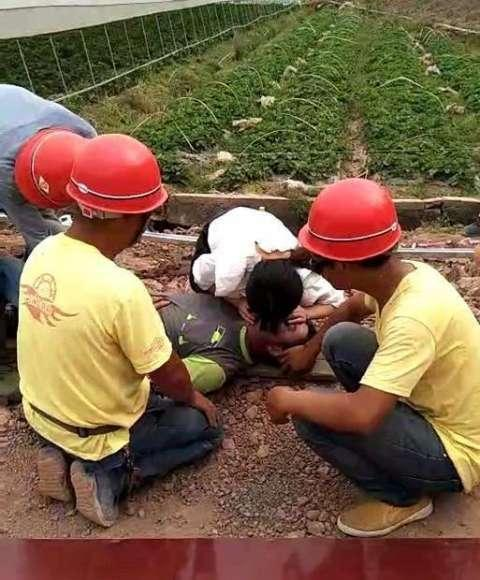Fall-Detected: (124, 274, 309, 418)
